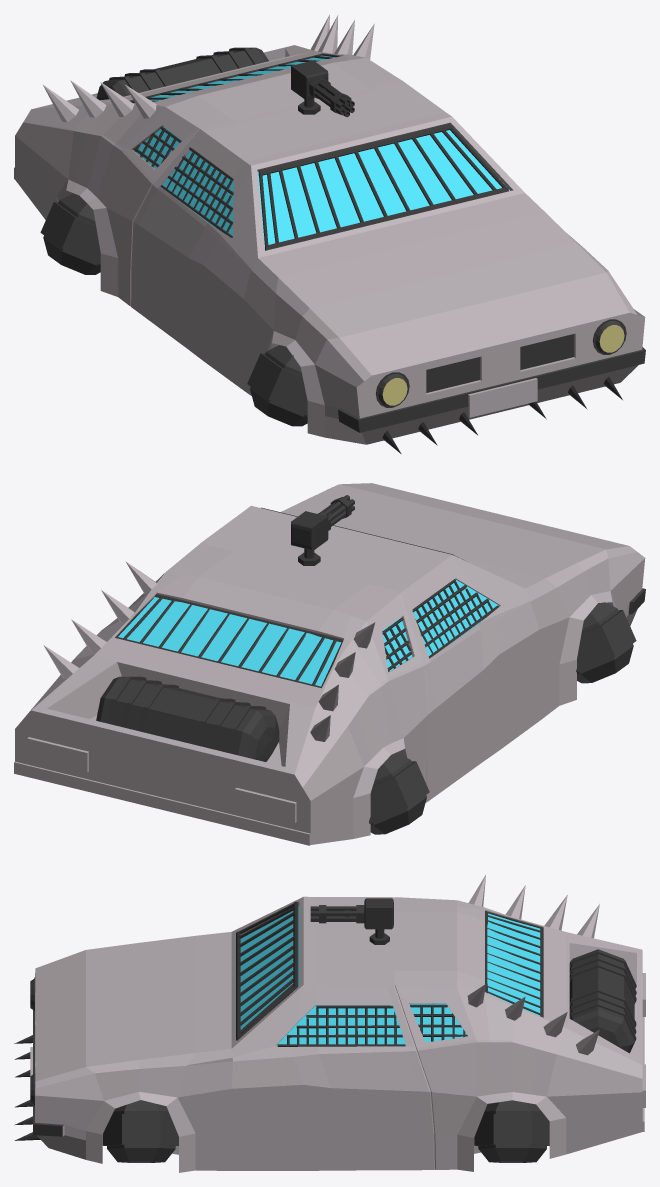
3 renders of one model, top to bottom at view 1: azimuth 30°, elevation 25°; view 2: azimuth 150°, elevation 25°; view 3: azimuth 270°, elevation 25°, orthographic. The views are drawn at different scales.
Visible parts, largest first — view 1: base, Arma sup1; view 2: base, Arma sup1; view 3: base, Arma sup1.
Boxes of the visible parts, x1,y1,x2,y2 form: base: [14, 14, 645, 454]; Arma sup1: [291, 60, 354, 117]; base: [14, 483, 645, 845]; Arma sup1: [291, 495, 354, 565]; base: [14, 875, 645, 1172]; Arma sup1: [310, 898, 393, 944].
Bounding box in the file's own units: 1.86 × 1.11 × 3.12.
